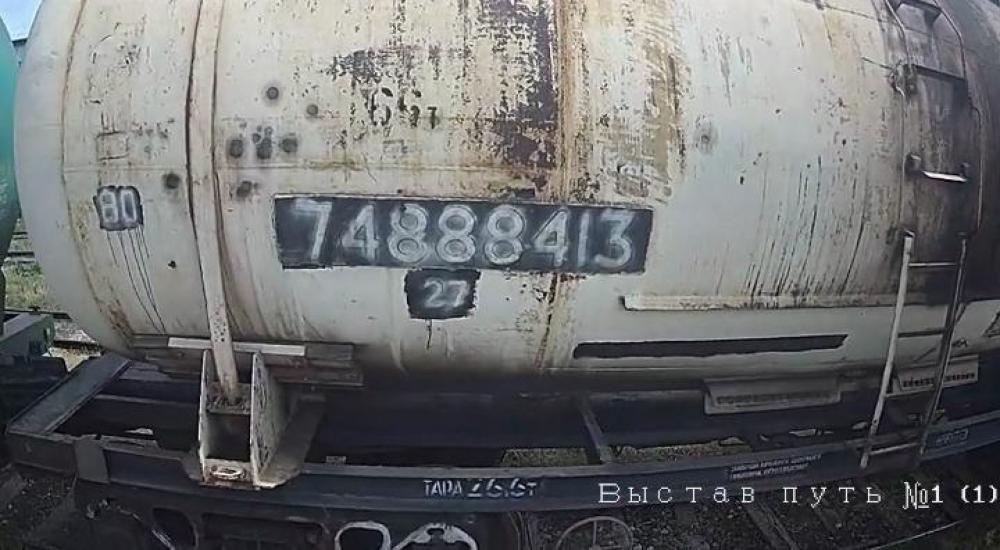Wagon-number: (288, 196, 641, 274)
